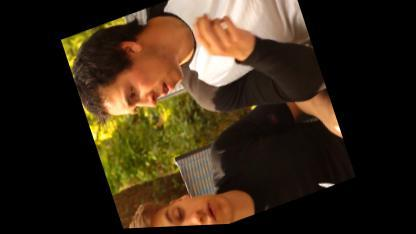knife: (310, 166, 354, 194)
